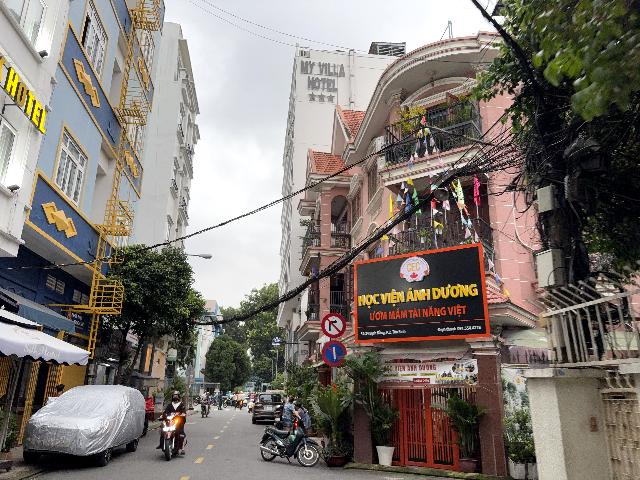cam-do-xe-ngay-le: (322, 340, 347, 367)
cam-re-phai: (321, 312, 346, 338)
